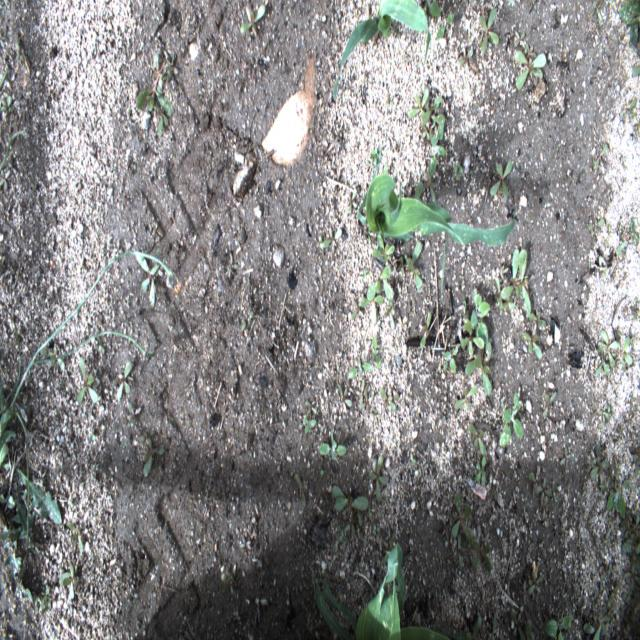crop: (356, 144, 515, 305), (312, 542, 451, 639), (334, 0, 431, 100)
weed: (10, 251, 179, 567), (0, 464, 62, 524), (136, 50, 178, 137), (0, 479, 39, 554), (0, 371, 29, 469), (3, 541, 38, 606), (584, 582, 622, 640), (501, 246, 531, 316), (332, 486, 368, 536), (465, 341, 494, 394), (515, 44, 546, 92), (5, 310, 21, 402), (135, 253, 159, 309), (499, 391, 523, 446), (606, 479, 637, 518), (586, 439, 608, 493), (0, 130, 28, 172), (622, 514, 640, 576), (470, 289, 490, 344), (451, 492, 472, 542), (77, 356, 98, 404), (618, 0, 639, 47), (319, 428, 346, 464), (429, 120, 446, 177), (366, 266, 394, 300), (596, 330, 620, 369), (460, 317, 484, 356), (480, 5, 499, 54), (421, 94, 446, 129), (369, 455, 387, 503), (143, 437, 164, 478), (490, 159, 512, 198), (240, 4, 266, 36), (616, 218, 639, 254), (614, 330, 633, 373), (544, 612, 573, 640), (471, 540, 493, 573), (114, 360, 131, 400), (40, 343, 65, 370), (360, 296, 384, 324), (372, 234, 394, 262), (468, 423, 487, 455), (454, 385, 478, 410), (59, 562, 75, 599), (409, 88, 429, 117), (406, 258, 423, 292), (436, 12, 455, 41), (322, 226, 342, 253), (442, 344, 460, 374), (522, 332, 542, 358), (67, 522, 83, 554), (378, 387, 398, 411), (347, 360, 372, 379), (419, 312, 432, 348), (536, 477, 552, 506), (510, 610, 525, 640), (294, 474, 307, 508), (372, 334, 384, 370), (620, 97, 637, 122), (126, 402, 141, 430), (221, 571, 235, 601), (335, 524, 350, 552), (338, 384, 352, 414), (223, 253, 239, 279), (528, 570, 544, 596), (624, 564, 640, 590), (405, 242, 422, 266), (622, 592, 636, 620), (383, 298, 395, 330), (466, 614, 481, 639), (454, 532, 465, 566), (597, 402, 610, 430), (350, 296, 364, 321), (542, 392, 556, 417), (595, 353, 609, 378), (422, 0, 441, 18), (595, 144, 608, 169), (592, 0, 604, 27), (427, 166, 436, 202), (588, 217, 605, 236), (40, 587, 51, 616), (383, 534, 394, 562), (355, 380, 365, 410), (518, 580, 529, 606), (302, 414, 316, 434), (476, 456, 486, 484), (529, 311, 546, 327), (491, 602, 498, 640), (347, 188, 357, 214), (496, 277, 504, 309), (0, 95, 15, 112), (453, 160, 464, 183), (361, 388, 373, 409), (0, 494, 15, 510), (559, 447, 571, 467), (632, 447, 640, 477), (618, 509, 630, 529), (605, 519, 617, 539), (460, 48, 473, 66), (529, 472, 540, 493), (363, 226, 375, 244), (514, 29, 526, 47), (600, 562, 612, 580), (239, 535, 252, 551), (503, 298, 516, 314), (630, 299, 639, 322), (0, 169, 10, 189), (94, 334, 104, 354), (370, 146, 380, 166), (627, 328, 638, 346), (0, 70, 8, 94), (15, 41, 24, 62), (304, 400, 317, 414), (413, 183, 422, 202), (442, 518, 449, 542), (392, 20, 400, 39), (633, 115, 640, 136), (0, 31, 8, 49), (371, 408, 381, 422), (595, 537, 610, 546), (525, 620, 532, 639), (38, 469, 46, 485), (240, 320, 246, 341), (361, 268, 371, 280), (422, 124, 429, 140), (543, 495, 547, 522), (632, 65, 640, 78), (606, 224, 611, 244), (318, 236, 324, 250), (400, 256, 404, 276), (373, 523, 380, 532), (8, 137, 12, 150), (553, 491, 557, 502), (247, 314, 252, 322)
